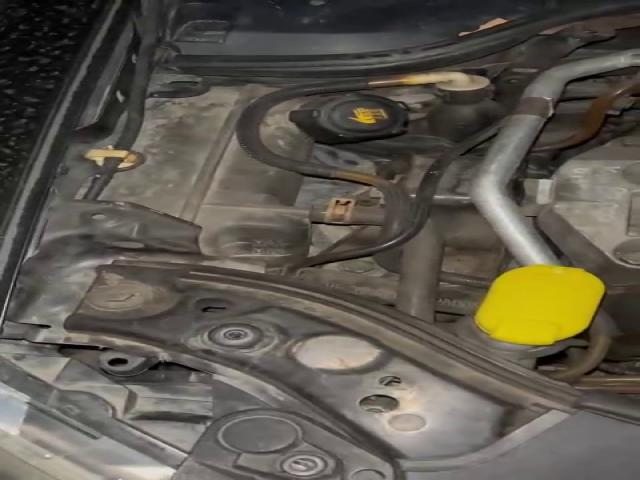antifreeze_tank: (106, 84, 311, 267), (261, 93, 409, 160)
